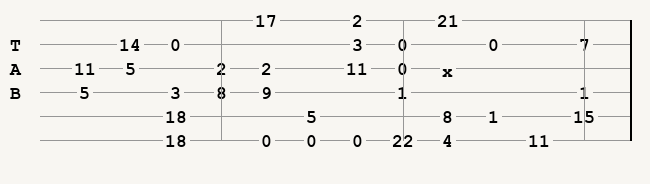0: (170, 36, 185, 52), (261, 132, 276, 148), (306, 132, 321, 148), (352, 132, 367, 148), (397, 60, 412, 76), (397, 36, 412, 52), (488, 36, 503, 52)
1: (397, 84, 412, 100), (488, 108, 503, 124), (579, 84, 594, 100)
11: (74, 60, 100, 76), (346, 60, 372, 76), (528, 132, 554, 148)
14: (119, 36, 145, 52)
15: (573, 108, 599, 124)
17: (255, 12, 281, 28)
18: (165, 108, 191, 124), (165, 132, 191, 148)
2: (216, 60, 231, 76), (261, 60, 276, 76), (352, 12, 367, 28)
21: (437, 12, 463, 28)
22: (392, 132, 418, 148)
3: (170, 84, 185, 100), (352, 36, 367, 52)
4: (442, 132, 457, 148)
5: (79, 84, 94, 100), (125, 60, 140, 76), (306, 108, 321, 124)
7: (579, 36, 594, 52)
8: (216, 84, 231, 100), (442, 108, 457, 124)
9: (261, 84, 276, 100)
x: (442, 62, 457, 74)
